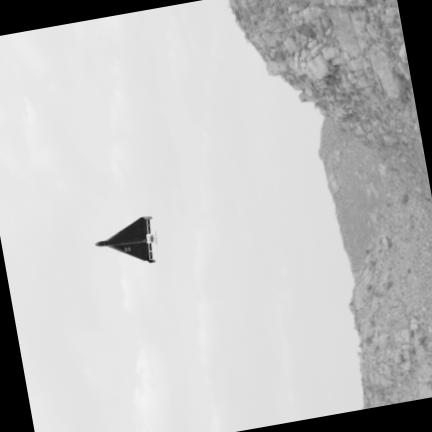Shahed: (96, 217, 153, 261)
